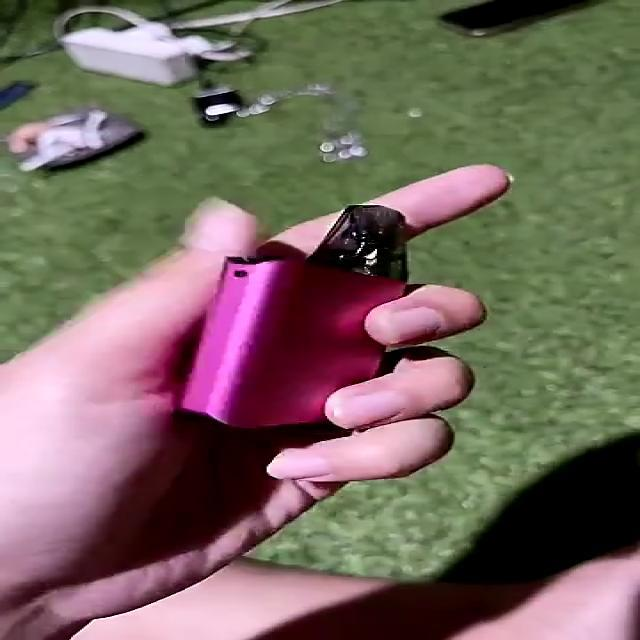Hazard: (168, 203, 413, 430)
